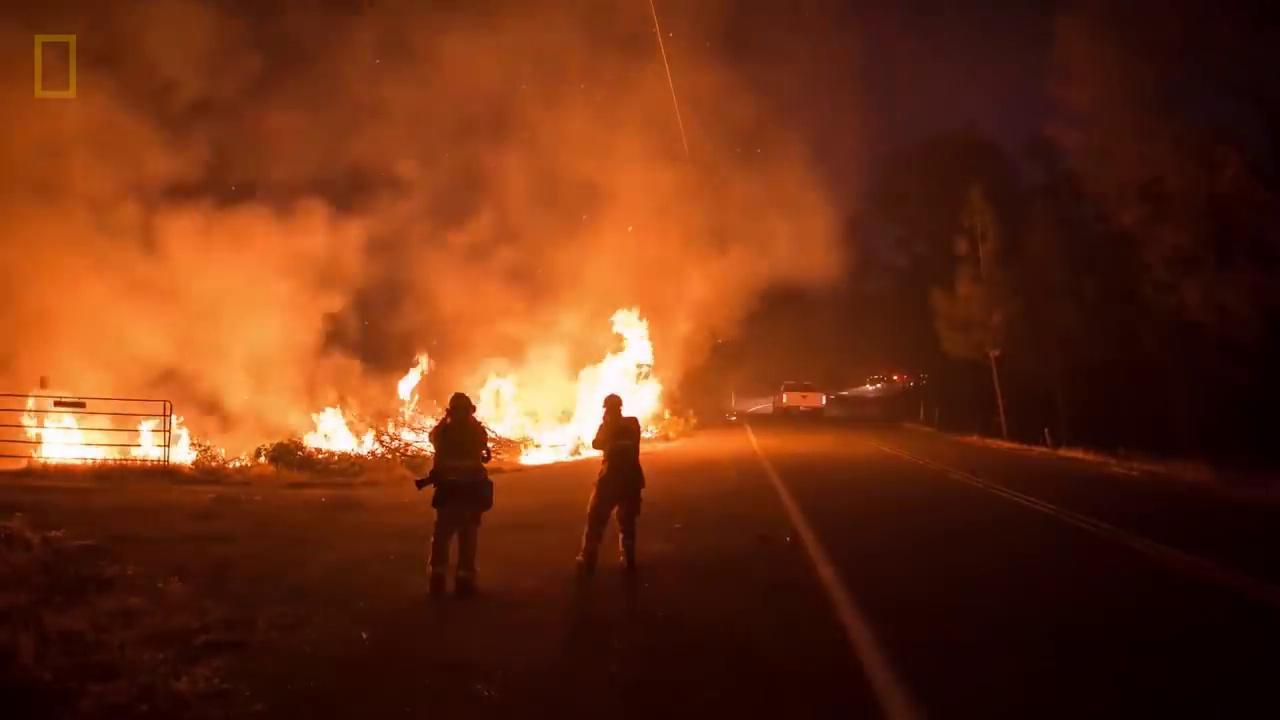Fire: (481, 306, 674, 465), (301, 353, 446, 454), (22, 388, 205, 466)
